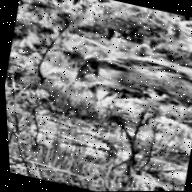boar: (50, 33, 192, 126)
